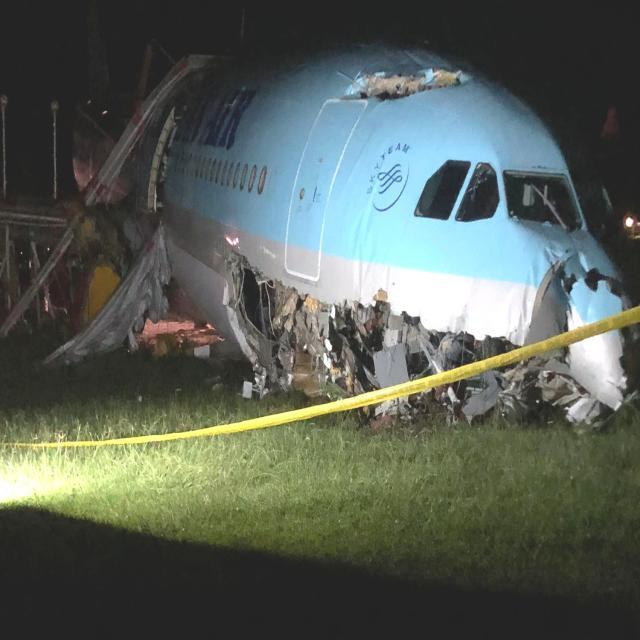crack: (328, 68, 483, 111)
